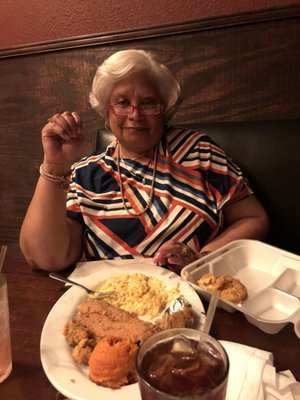salad: (49, 272, 112, 295)
